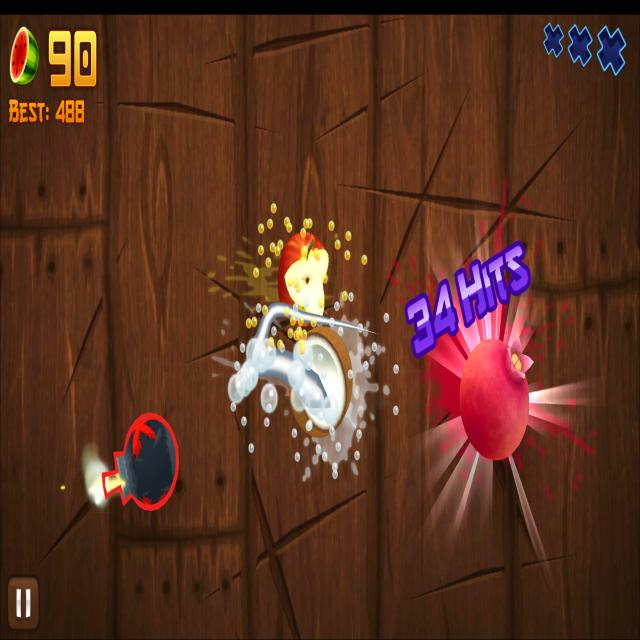bomb: (102, 409, 180, 514)
fruit: (458, 338, 530, 464)
